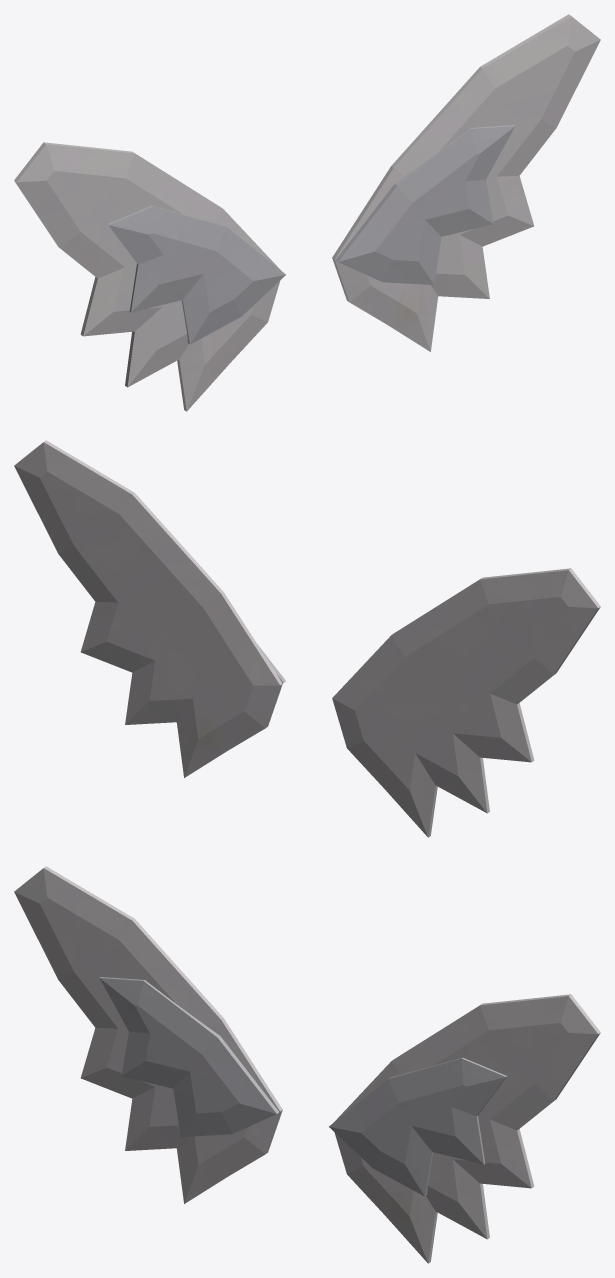
File: acc_wings_small.glb
3 renders of one model, top to bottom at view 1: azimuth 30°, elevation 25°; view 2: azimuth 150°, elevation 25°; view 3: azimuth 330°, elevation 25°, orthographic.
Parts seen in each view (by area): view 1: acc_wings_small; view 2: acc_wings_small; view 3: acc_wings_small.
Part boxes in pixels (x1,y1,x2,y2): acc_wings_small: [14, 14, 600, 411]; acc_wings_small: [14, 440, 600, 837]; acc_wings_small: [14, 866, 600, 1263].
Bounding box in the file's own units: 0.79 × 0.39 × 0.024.
2 materials, 2 textured.
